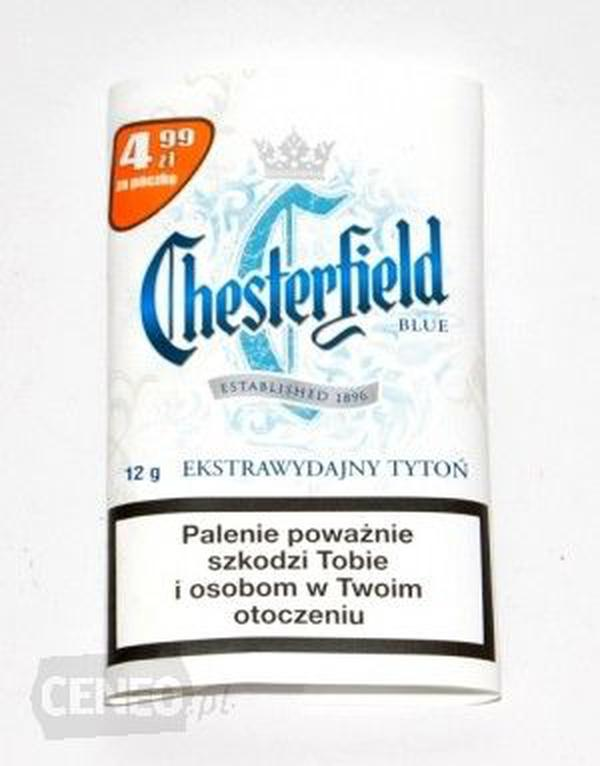chesterfield_blue: (111, 83, 488, 681)
